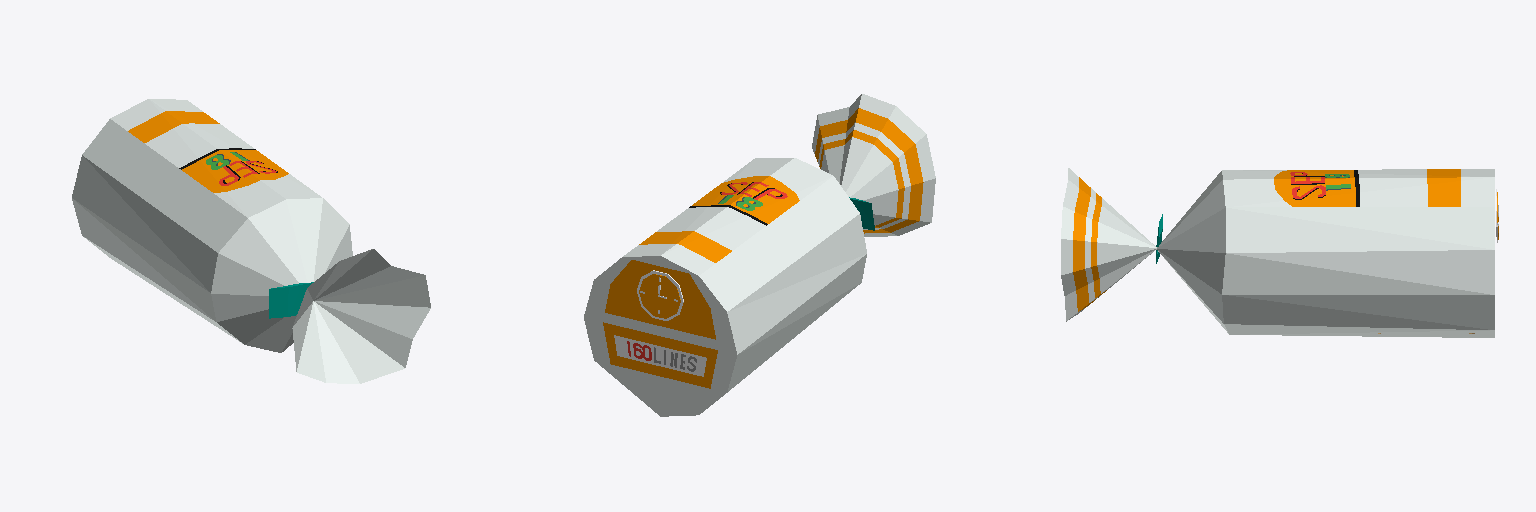
The picture shows the model from 3 angles: view 1: azimuth 30°, elevation 25°; view 2: azimuth 150°, elevation 25°; view 3: azimuth 270°, elevation 25°; orthographic projection.
Visible parts, largest first — view 1: group[number redacted], group[number redacted], group[number redacted]; view 2: group[number redacted], group[number redacted], group[number redacted]; view 3: group[number redacted], group[number redacted].
Boxes of the visible parts, x1=… form: group[number redacted]: x1=72, y1=99, x2=352, y2=352; group[number redacted]: x1=292, y1=249, x2=430, y2=383; group[number redacted]: x1=269, y1=282, x2=313, y2=318; group[number redacted]: x1=584, y1=158, x2=866, y2=416; group[number redacted]: x1=812, y1=94, x2=935, y2=236; group[number redacted]: x1=637, y1=270, x2=683, y2=320; group[number redacted]: x1=1157, y1=169, x2=1494, y2=337; group[number redacted]: x1=1061, y1=168, x2=1156, y2=321.
Bounding box in the file's own units: 1.32 × 1.34 × 3.25.